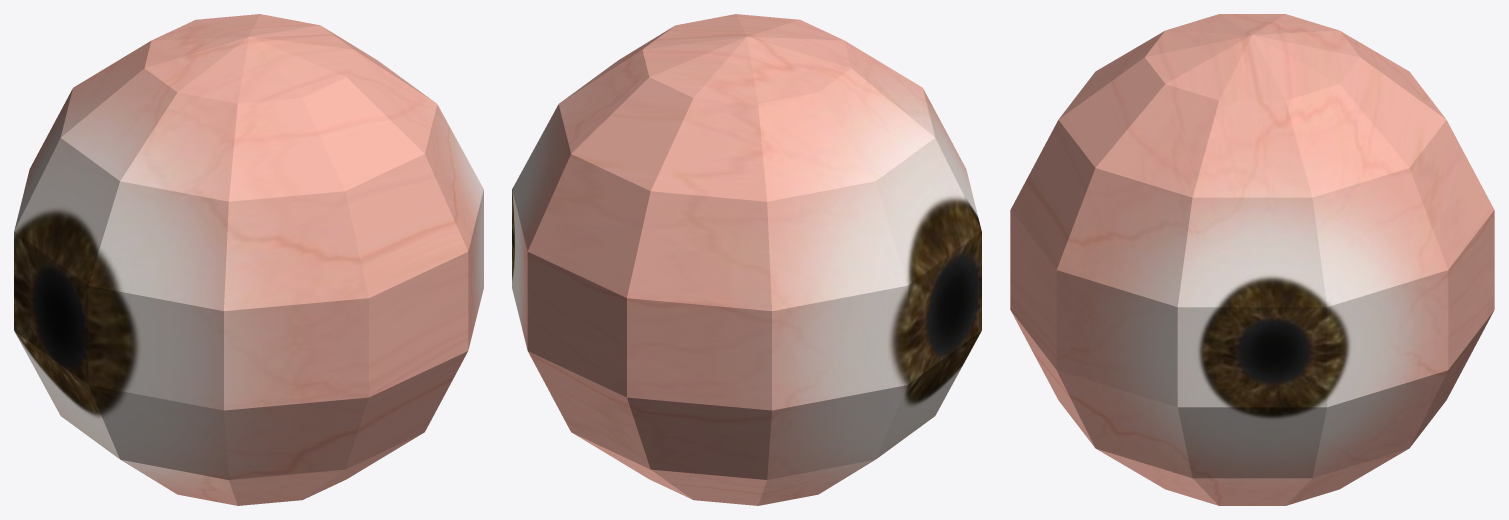
The model's file is ball-01daf6a5.glb.
3 renders of one model, left to right at view 1: azimuth 30°, elevation 25°; view 2: azimuth 150°, elevation 25°; view 3: azimuth 270°, elevation 25°, orthographic.
Visible parts, largest first — view 1: Sphere; view 2: Sphere; view 3: Sphere.
Boxes of the visible parts, <box> form: Sphere: <box>14,14,483,505</box>; Sphere: <box>512,14,981,505</box>; Sphere: <box>1010,14,1494,505</box>.
Bounding box in the file's own units: 1.85 × 2 × 1.95.
1 material, 1 textured.
